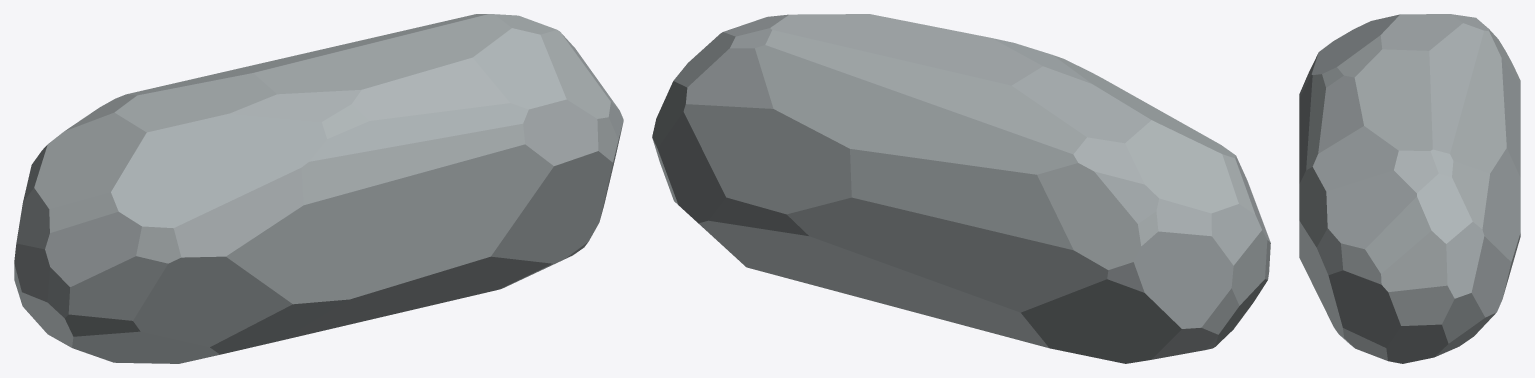
File: NHP_Rock_Boulder_A4_01.fbx
3 views of the same model, side by side, from view 1: azimuth 30°, elevation 25°; view 2: azimuth 150°, elevation 25°; view 3: azimuth 270°, elevation 25° (orthographic). The views are drawn at different scales.
Visible parts, largest first — view 1: NHP_Rock_Boulder_A4_01; view 2: NHP_Rock_Boulder_A4_01; view 3: NHP_Rock_Boulder_A4_01.
Boxes of the visible parts, left/top/right/bottom form: NHP_Rock_Boulder_A4_01: left=14, top=14, right=623, bottom=363; NHP_Rock_Boulder_A4_01: left=652, top=14, right=1270, bottom=363; NHP_Rock_Boulder_A4_01: left=1299, top=14, right=1520, bottom=363.
Bounding box in the file's own units: 6.46 × 2.55 × 2.54.
